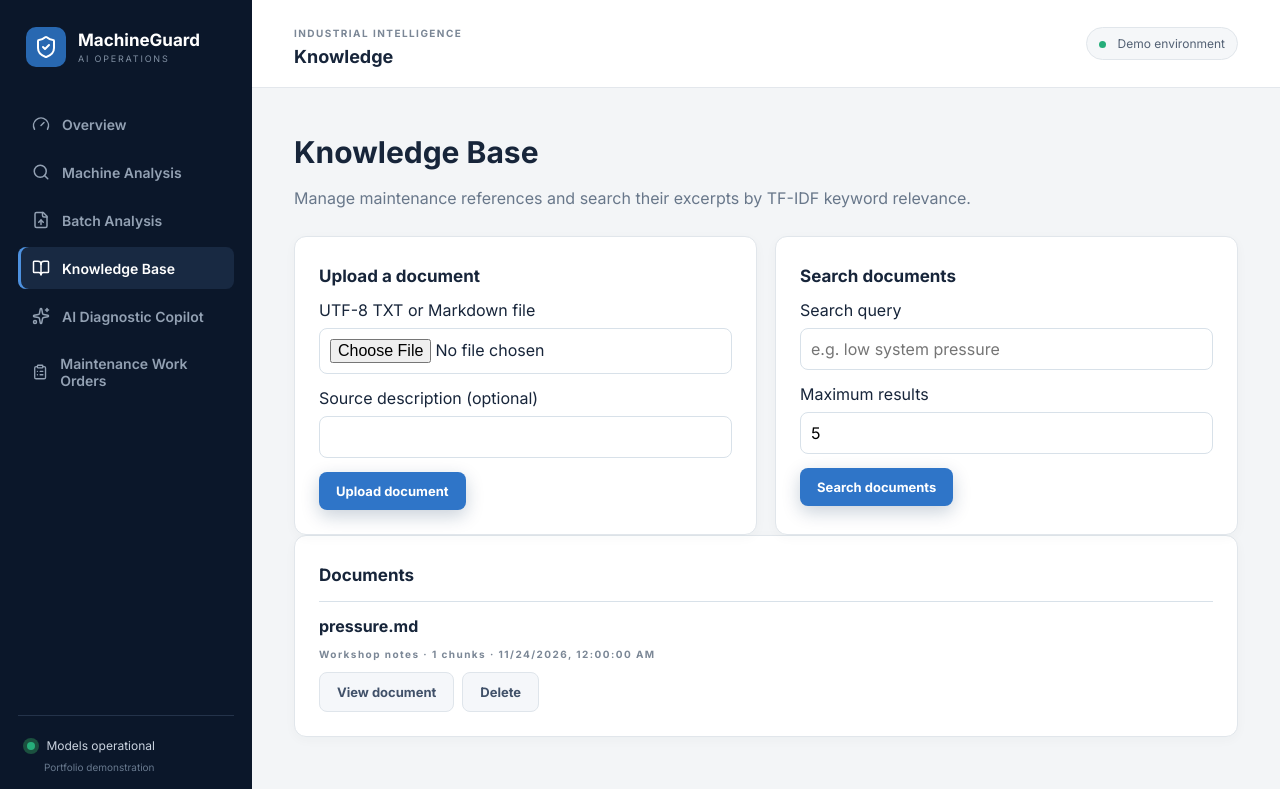
renders search citations and the no-match state
Expected: the button with aria-label "View pressure.md" is shown, [319,672,454,712]
Type "low pressure" into the field labelled "Search query" at [1006, 349], box [800,328,1213,370]
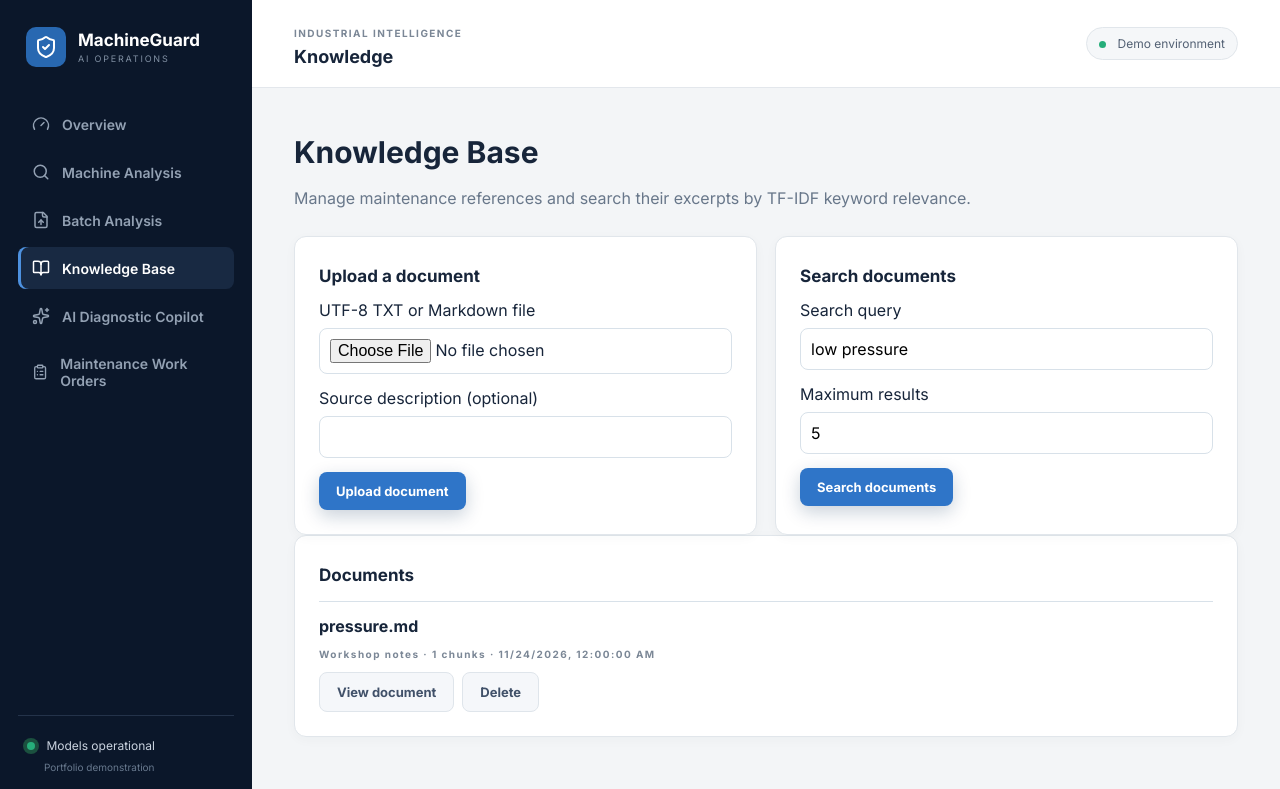
Click the button "Search documents" at [877, 487], box [800,468,953,506]
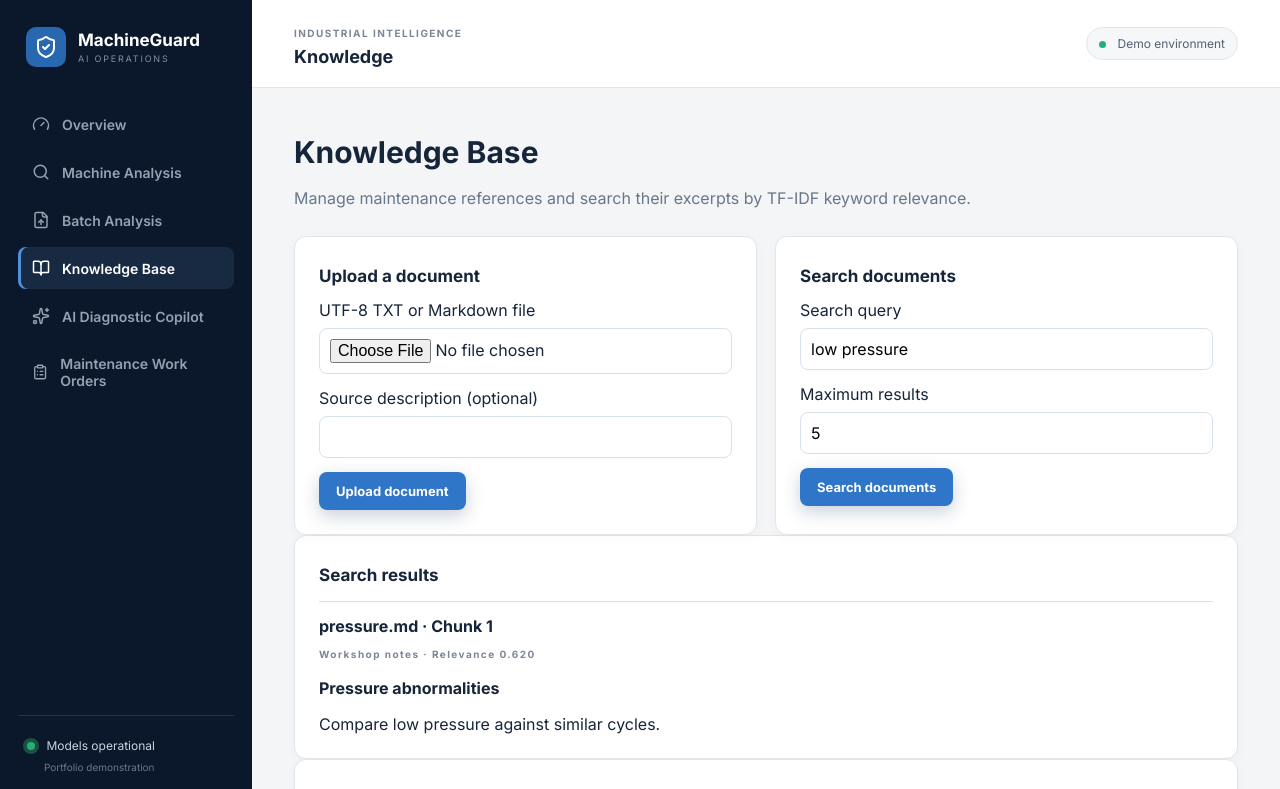
Result: the text "Workshop notes · Relevance 0.620" is shown at [319,648,536,660]
Result: the heading "pressure.md · Chunk 1" is shown at [319,616,493,636]
Replace the text in the field labelled "Search query" with "unrelated" at [1006, 349], box [800,328,1213,370]
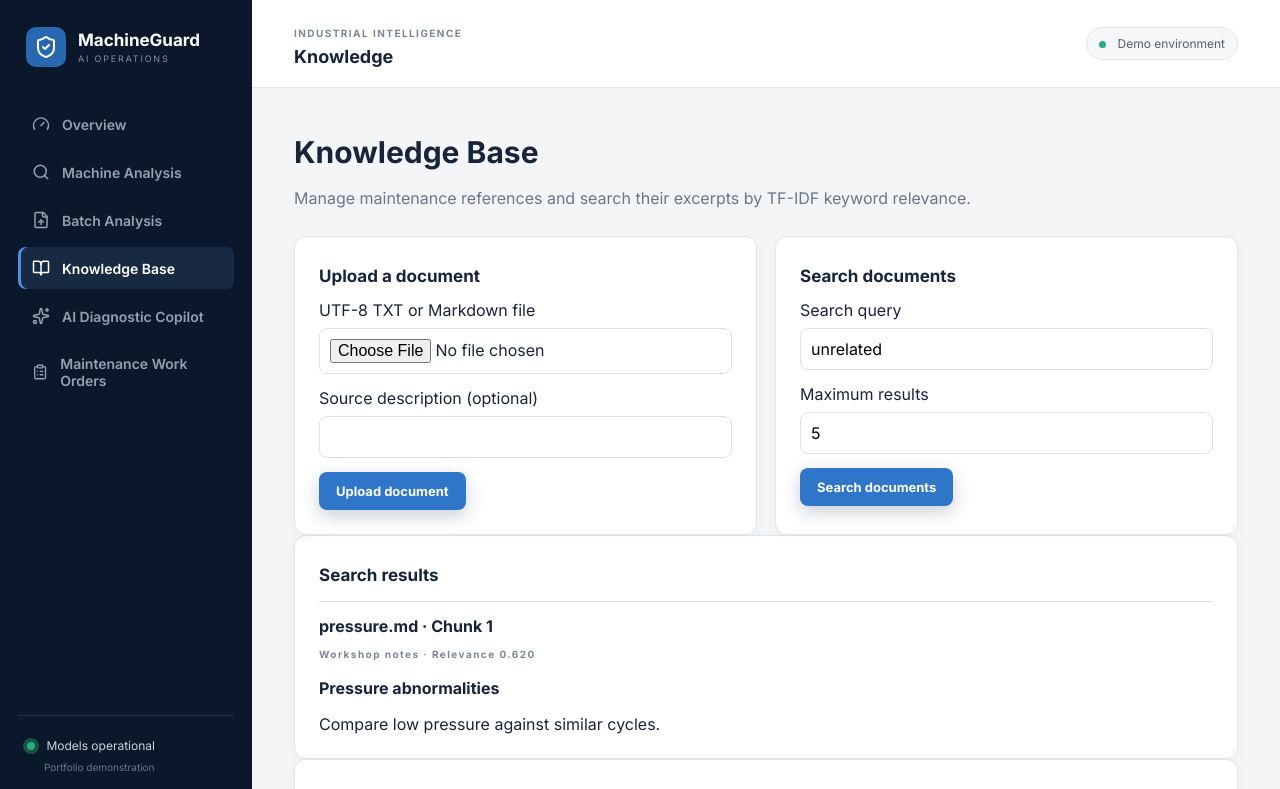
Click the button "Search documents" at [877, 487], box [800,468,953,506]
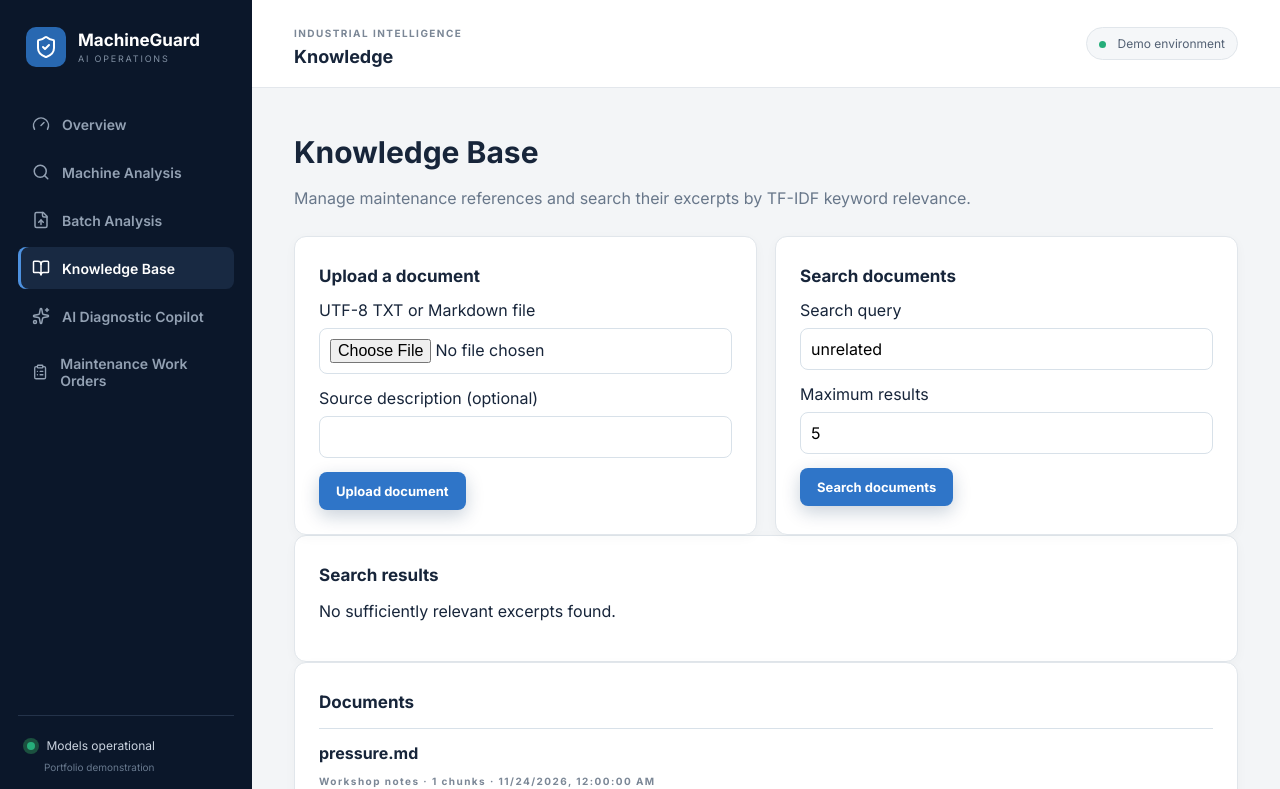
Result: the text "No sufficiently relevant excerpts found." is shown at [319,601,616,621]
